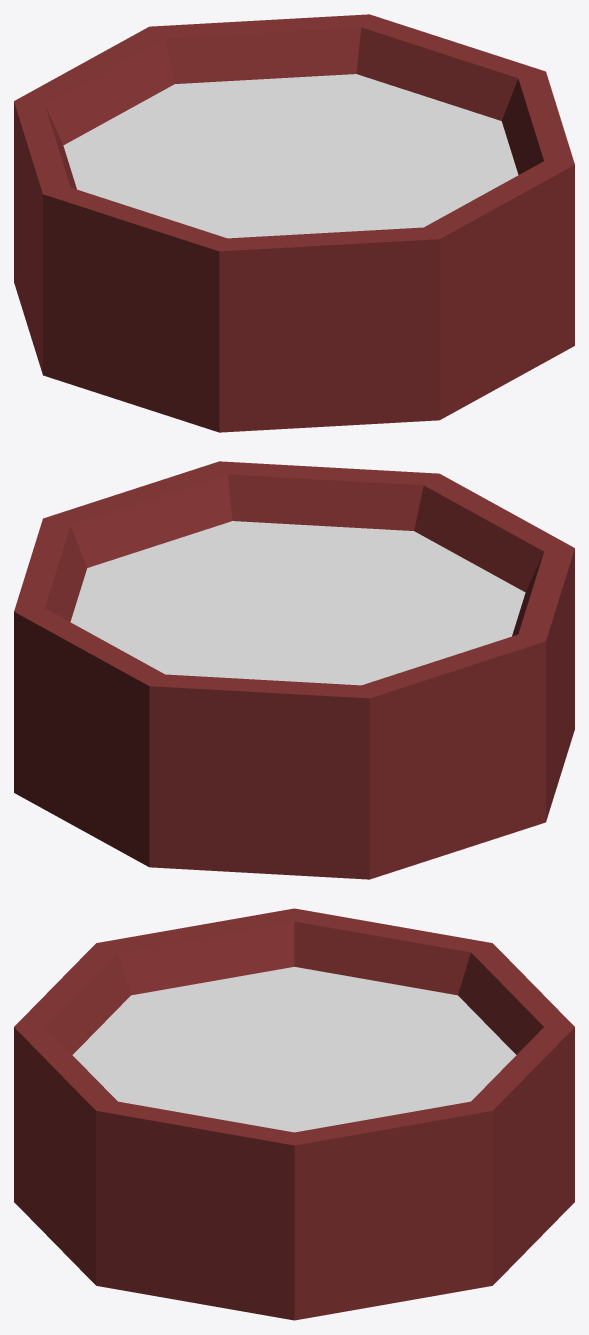
Rendered from bounce pad.fbx.
3 views of the same model, one above another, from view 1: azimuth 30°, elevation 25°; view 2: azimuth 150°, elevation 25°; view 3: azimuth 270°, elevation 25° (orthographic). The views are drawn at different scales.
Visible parts, largest first — view 1: pCylinder1; view 2: pCylinder1; view 3: pCylinder1.
Boxes of the visible parts, x1=… form: pCylinder1: x1=14, y1=14, x2=574, y2=432; pCylinder1: x1=14, y1=461, x2=574, y2=879; pCylinder1: x1=14, y1=908, x2=574, y2=1320.
Bounding box in the file's own units: 9.84 × 3.39 × 9.84.
